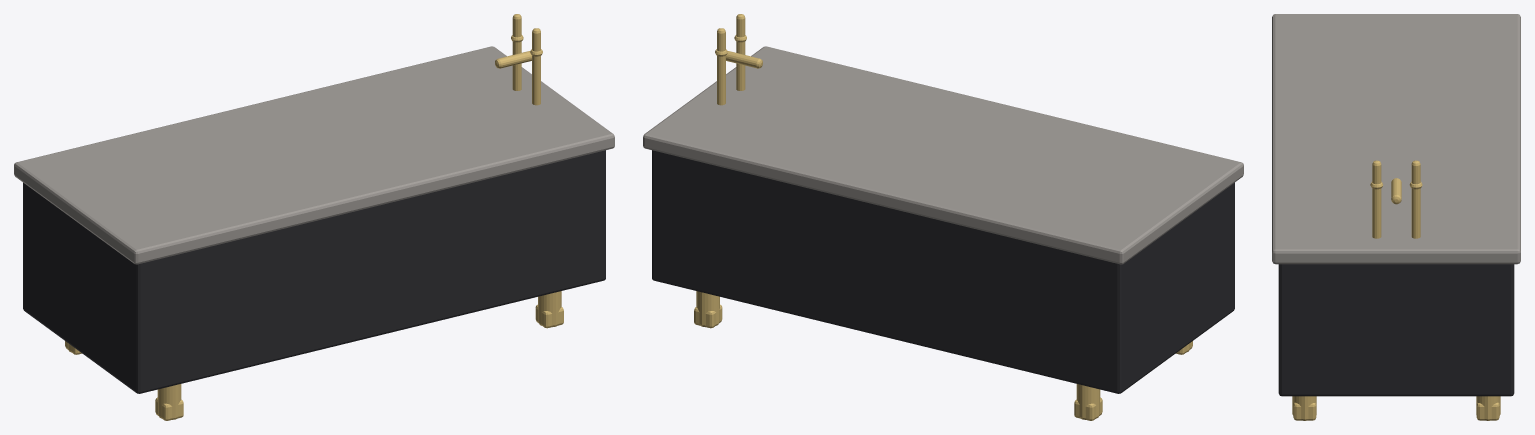
File: SM_Furniture_Bathtub_01.glb
3 renders of one model, left to right at view 1: azimuth 30°, elevation 25°; view 2: azimuth 150°, elevation 25°; view 3: azimuth 270°, elevation 25°, orthographic.
Visible parts, largest first — view 1: SM_Furniture_Bathtub_01; view 2: SM_Furniture_Bathtub_01; view 3: SM_Furniture_Bathtub_01.
Part boxes in pixels (bbox=[...]): SM_Furniture_Bathtub_01: bbox=[14, 14, 614, 420]; SM_Furniture_Bathtub_01: bbox=[643, 14, 1243, 420]; SM_Furniture_Bathtub_01: bbox=[1272, 14, 1520, 420].
Bounding box in the file's own units: 1.72 × 0.9 × 0.76.
